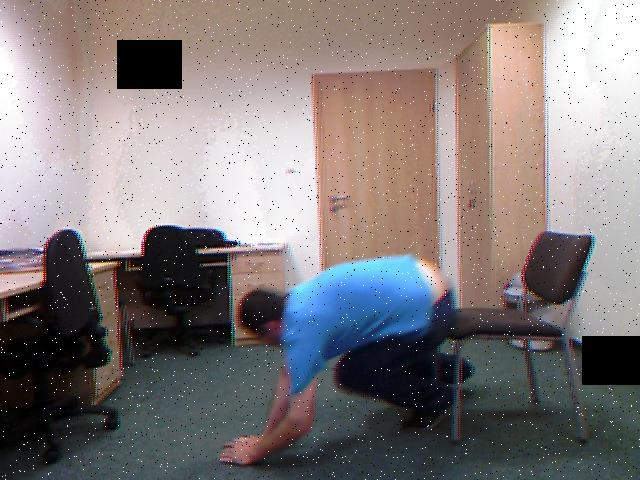fall: (219, 255, 455, 464), (460, 361, 474, 379)
